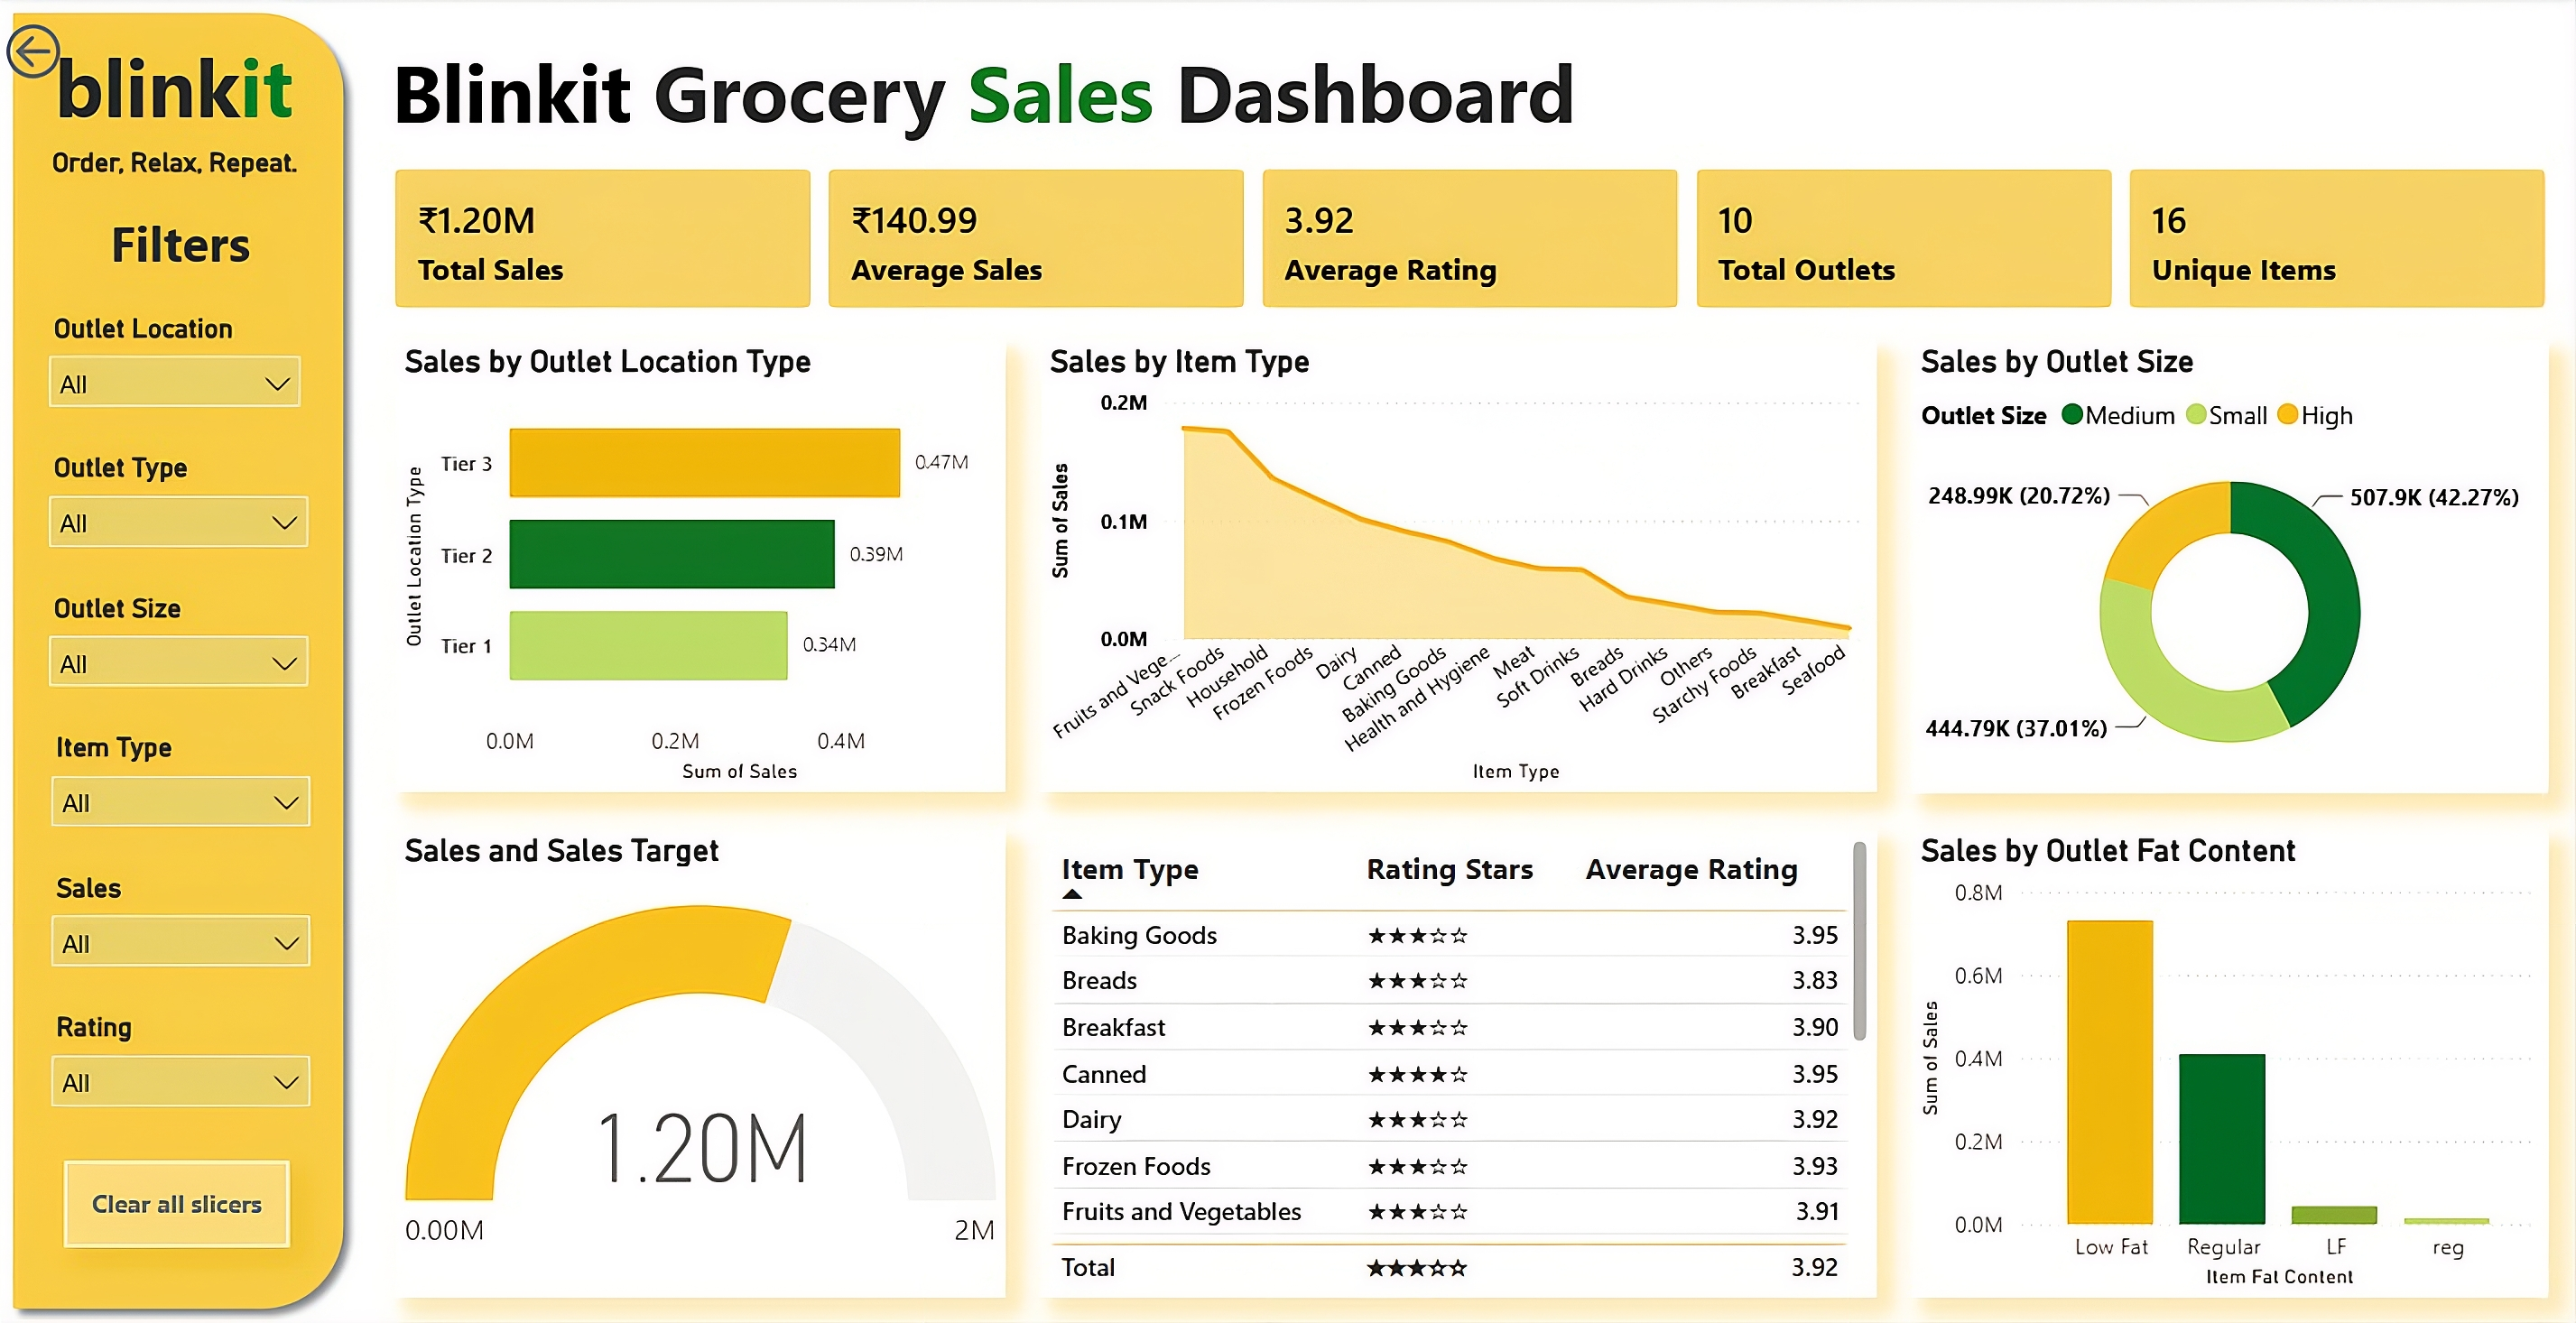

This screenshot's page, from the dashboard's own definition file:
{"tool":"powerbi","page":{"name":"Page 2","canvas":[1400,720],"ordinal":0},"visuals":[{"type":"shape","box":[-0.6,0,196.9,720.2],"z":0},{"type":"textbox","box":[15.3,14.2,160.2,122.3],"z":1000},{"type":"textbox","box":[-0.6,75.3,193.2,33],"z":2000},{"type":"actionButton","box":[-0.6,10,100,40],"z":3000},{"type":"textbox","box":[39.9,109.5,118.6,56.3],"z":4000},{"type":"slicer","fields":{"Values":["BlinkIT Grocery Data.Outlet Location Type"]},"box":[18.8,166.2,156.2,76.2],"z":5000},{"type":"slicer","fields":{"Values":["BlinkIT Grocery Data.Outlet Type"]},"box":[17.9,241.7,160.2,75.8],"z":6000},{"type":"slicer","fields":{"Values":["BlinkIT Grocery Data.Outlet Size"]},"box":[17.9,317.5,160.2,75.8],"z":7000},{"type":"slicer","fields":{"Values":["BlinkIT Grocery Data.Item Type"]},"box":[19.6,393.7,160,76.2],"z":8000},{"type":"slicer","fields":{"Values":["BlinkIT Grocery Data.Sales"]},"box":[19.6,469.6,160.2,75.8],"z":9000},{"type":"slicer","fields":{"Values":["BlinkIT Grocery Data.Rating"]},"box":[20.2,546,160,76.2],"z":10000},{"type":"cardVisual","fields":{"Data":["BlinkIT Grocery Data.Total Sales","BlinkIT Grocery Data.Average Sales","BlinkIT Grocery Data.Average Rating","BlinkIT Grocery Data.Total Outlets","BlinkIT Grocery Data.Unique Items"]},"box":[198.1,75.8,1202,111.3],"z":11000},{"type":"textbox","box":[209.1,17.1,1071.2,74.6],"z":12000},{"type":"donutChart","title":"Sales by Outlet Size","fields":{"Y":["Sum(BlinkIT Grocery Data.Sales)"],"Category":["BlinkIT Grocery Data.Outlet Size"]},"box":[1037.9,187.1,344.8,244.6],"z":13000},{"type":"columnChart","title":"Sales by Outlet Fat Content","fields":{"Category":["BlinkIT Grocery Data.Item Fat Content"],"Y":["Sum(BlinkIT Grocery Data.Sales)"]},"box":[1037.8,452.8,344.7,253.1],"z":14000},{"type":"barChart","title":"Sales by Outlet Location Type","fields":{"Category":["BlinkIT Grocery Data.Outlet Location Type"],"Y":["Sum(BlinkIT Grocery Data.Sales)"]},"box":[216.2,187,330.7,244.2],"z":15000},{"type":"lineChart","title":"Sales by Item Type","fields":{"Category":["BlinkIT Grocery Data.Item Type"],"Y":["Sum(BlinkIT Grocery Data.Sales)"]},"box":[566,187,452.8,244.2],"z":16000},{"type":"gauge","title":"Sales and Sales Target","fields":{"Y":["Sum(BlinkIT Grocery Data.Sales)"],"MaxValue":["BlinkIT Grocery Data.Sales Target"]},"box":[216.2,452.8,330.7,253.1],"z":17000},{"type":"tableEx","fields":{"Values":["BlinkIT Grocery Data.Item Type","BlinkIT Grocery Data.Rating Stars","BlinkIT Grocery Data.Average Rating"]},"box":[566,453,453,253],"z":18000},{"type":"actionButton","box":[36.9,630.8,122.1,47.1],"z":19000}]}

Visuals, with their boxes in screenshot pixels (x1, y1, x2, y2), scaled from the page's 1400x720 canvas onto the 2576x1323 screenshot:
shape: <region>0, 0, 361, 1322</region>
textbox: <region>28, 26, 323, 251</region>
textbox: <region>0, 138, 355, 199</region>
actionButton: <region>0, 18, 183, 92</region>
textbox: <region>73, 201, 292, 305</region>
slicer - BlinkIT Grocery Data.Outlet Location Type: <region>34, 305, 322, 446</region>
slicer - BlinkIT Grocery Data.Outlet Type: <region>32, 444, 328, 583</region>
slicer - BlinkIT Grocery Data.Outlet Size: <region>32, 583, 328, 723</region>
slicer - BlinkIT Grocery Data.Item Type: <region>36, 724, 330, 864</region>
slicer - BlinkIT Grocery Data.Sales: <region>36, 863, 331, 1002</region>
slicer - BlinkIT Grocery Data.Rating: <region>37, 1004, 331, 1143</region>
cardVisual - BlinkIT Grocery Data.Total Sales x BlinkIT Grocery Data.Average Sales: <region>365, 139, 2575, 344</region>
textbox: <region>385, 32, 2356, 169</region>
"Sales by Outlet Size" donutChart: <region>1910, 344, 2544, 793</region>
"Sales by Outlet Fat Content" columnChart: <region>1910, 832, 2544, 1297</region>
"Sales by Outlet Location Type" barChart: <region>398, 344, 1006, 792</region>
"Sales by Item Type" lineChart: <region>1042, 344, 1875, 792</region>
"Sales and Sales Target" gauge: <region>398, 832, 1006, 1297</region>
tableEx - BlinkIT Grocery Data.Item Type x BlinkIT Grocery Data.Rating Stars: <region>1042, 832, 1875, 1297</region>
actionButton: <region>68, 1159, 292, 1245</region>
